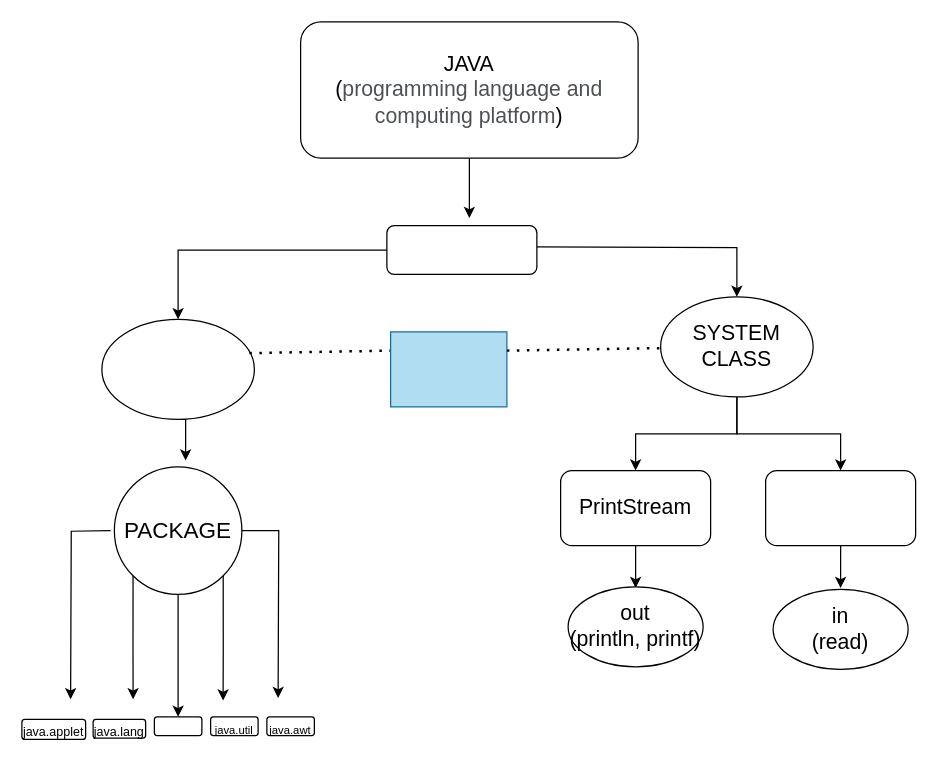
Image size: 938x765. Some labels were removed from this diagram. Here are the shapes that lost their labels. From the top down, the centre of each, then its label:
the point at 461,249: CLASS
the point at 177,368: OBJECT CLASS
the point at 448,369: INHERITANCE
the point at 840,507: InputStream
the point at 177,726: java.io
